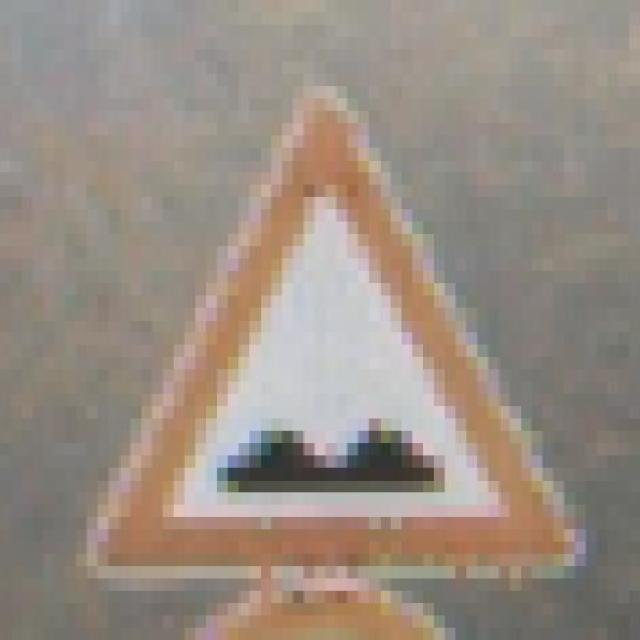Uneven Road: (97, 61, 586, 578)
